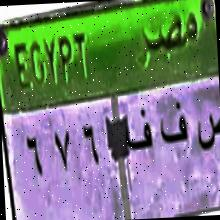6: (24, 134, 46, 182), (81, 121, 102, 171)
7: (52, 128, 71, 176)
faa: (154, 95, 190, 157), (120, 107, 153, 159)
saad: (193, 99, 220, 153)
